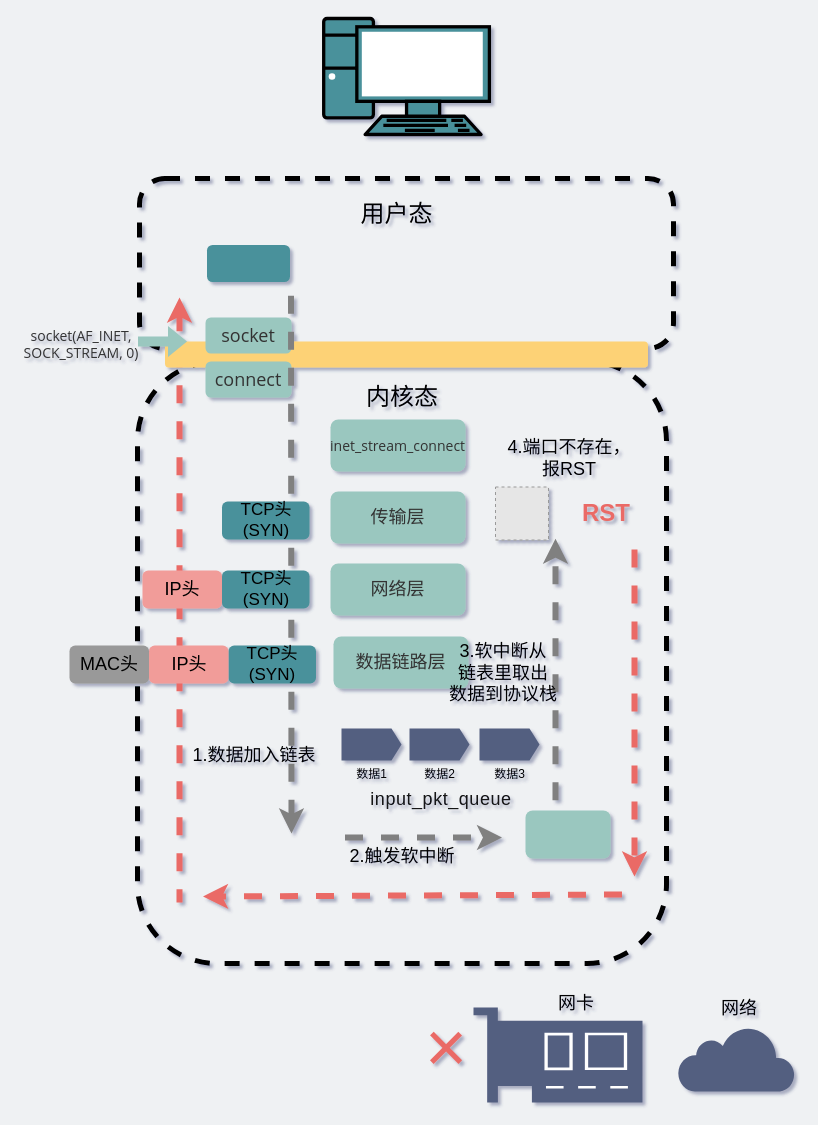
The diagram is 818 pixels wide and 1125 high, and some of its shapes have lost their labels. Grey dashed boxes stand in for pictures. The shapes that lost their labels are listed below. From the top down, each one's box as (x1, y1, x2, y2) in pixels, then its label:
(206, 244, 290, 282): connect()
(164, 341, 648, 367): socket接口
(525, 810, 610, 858): 软中断
